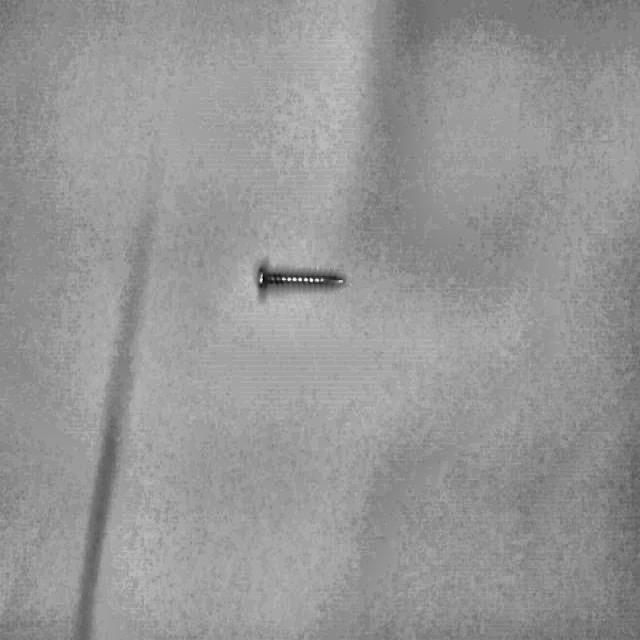Sheet metal screw: (256, 266, 345, 290)
